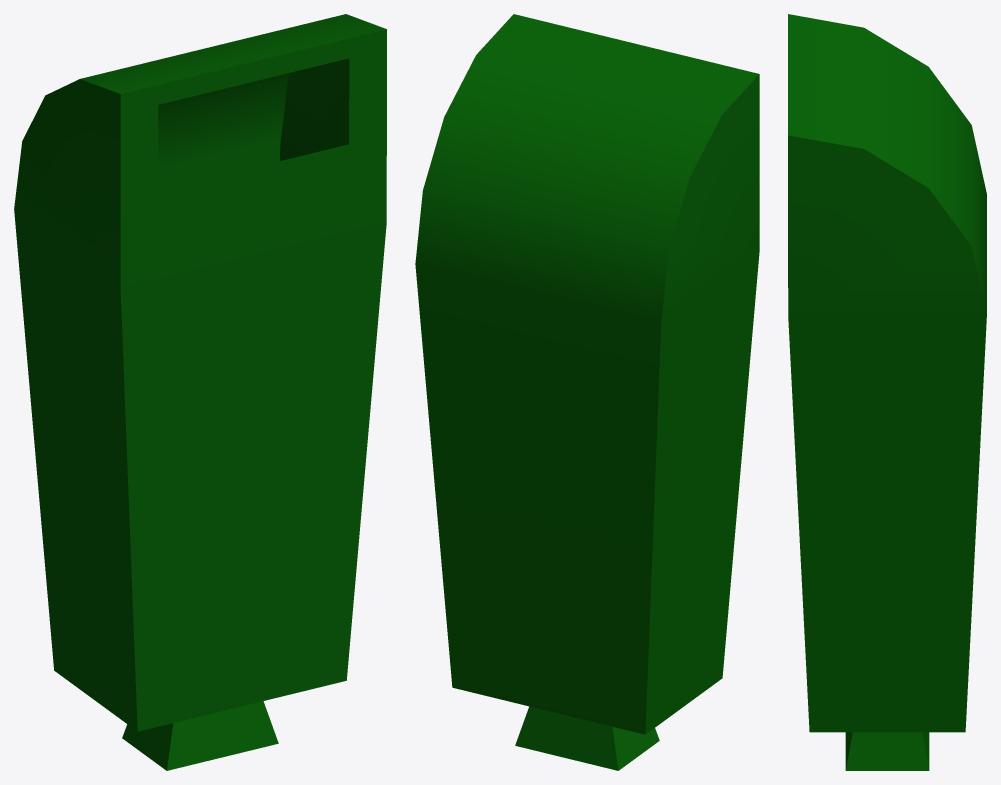
Rendered from trash2.fbx.
The picture shows the model from 3 angles, left to right: view 1: azimuth 30°, elevation 25°; view 2: azimuth 150°, elevation 25°; view 3: azimuth 270°, elevation 25°; orthographic projection. The views are drawn at different scales.
Parts seen in each view (by area): view 1: trash2; view 2: trash2; view 3: trash2.
Part boxes in pixels (box(x1,y1,x2,y2)): trash2: box(14, 14, 386, 770); trash2: box(415, 14, 759, 770); trash2: box(788, 14, 986, 770).
Bounding box in the file's own units: 1.73 × 4.45 × 1.2.
